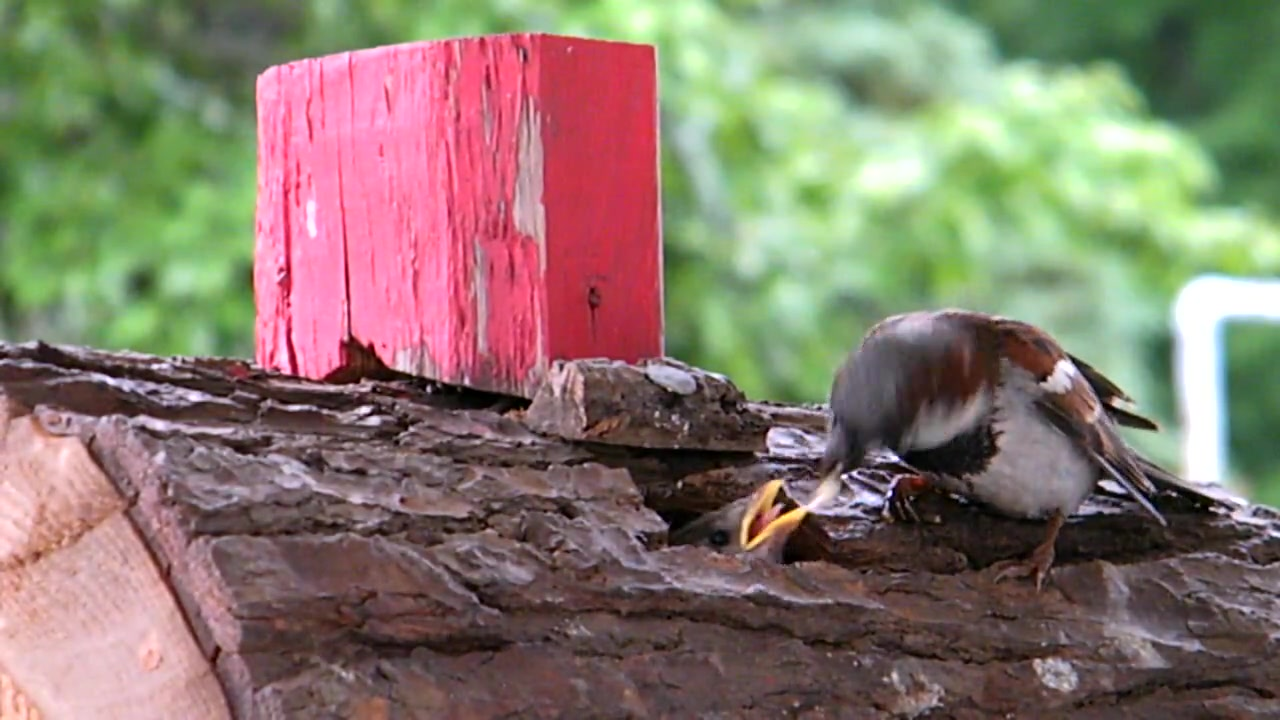bird: (818, 311, 1172, 596)
